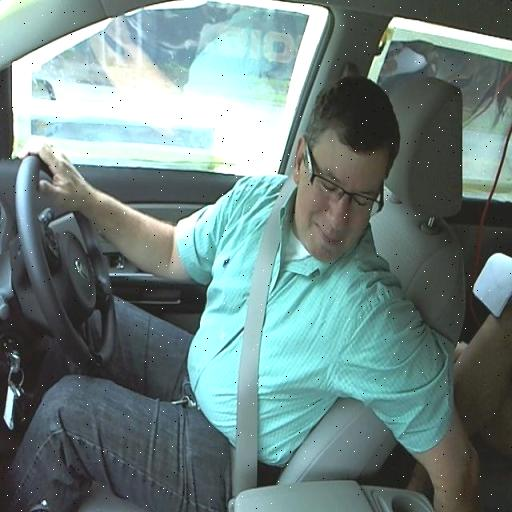turning: (18, 72, 408, 438)
